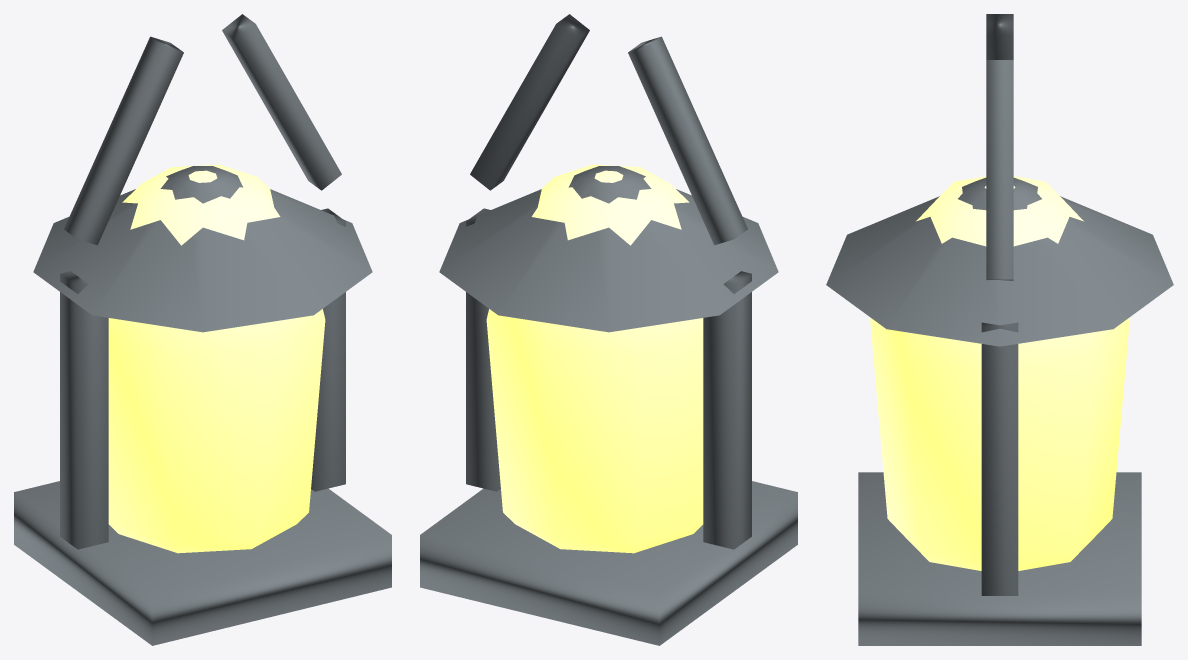
File: prop-lantern.gltf
The picture shows the model from 3 angles, left to right: view 1: azimuth 30°, elevation 25°; view 2: azimuth 150°, elevation 25°; view 3: azimuth 270°, elevation 25°; orthographic projection. The views are drawn at different scales.
Visible parts, largest first — view 1: LanternGlow, Lantern.Cap, Lantern.Base, Lantern.Post.L, Lantern.Handle.L, Lantern.Handle.R, Lantern.Post.R; view 2: LanternGlow, Lantern.Cap, Lantern.Base, Lantern.Post.L, Lantern.Handle.L, Lantern.Handle.R, Lantern.Post.R; view 3: LanternGlow, Lantern.Cap, Lantern.Base, Lantern.Post.R, Lantern.Handle.R, Lantern.Handle.L.
Boxes of the visible parts, bbox=[...] form: LanternGlow: bbox=[108, 164, 325, 553]; Lantern.Cap: bbox=[33, 166, 372, 332]; Lantern.Base: bbox=[14, 481, 391, 645]; Lantern.Post.L: bbox=[60, 271, 108, 549]; Lantern.Handle.L: bbox=[64, 36, 183, 245]; Lantern.Handle.R: bbox=[222, 14, 341, 190]; Lantern.Post.R: bbox=[311, 208, 345, 491]; LanternGlow: bbox=[486, 164, 703, 553]; Lantern.Cap: bbox=[439, 166, 778, 332]; Lantern.Base: bbox=[420, 481, 797, 645]; Lantern.Post.L: bbox=[703, 271, 751, 549]; Lantern.Handle.L: bbox=[628, 36, 747, 245]; Lantern.Handle.R: bbox=[470, 14, 589, 190]; Lantern.Post.R: bbox=[466, 208, 500, 491]; LanternGlow: bbox=[870, 176, 1129, 570]; Lantern.Cap: bbox=[826, 177, 1173, 346]; Lantern.Base: bbox=[858, 472, 1141, 645]; Lantern.Post.R: bbox=[981, 322, 1018, 595]; Lantern.Handle.R: bbox=[986, 60, 1013, 280]; Lantern.Handle.L: bbox=[986, 14, 1013, 59].
Bounding box in the file's own units: 0.6595 × 1.17 × 0.6697.
